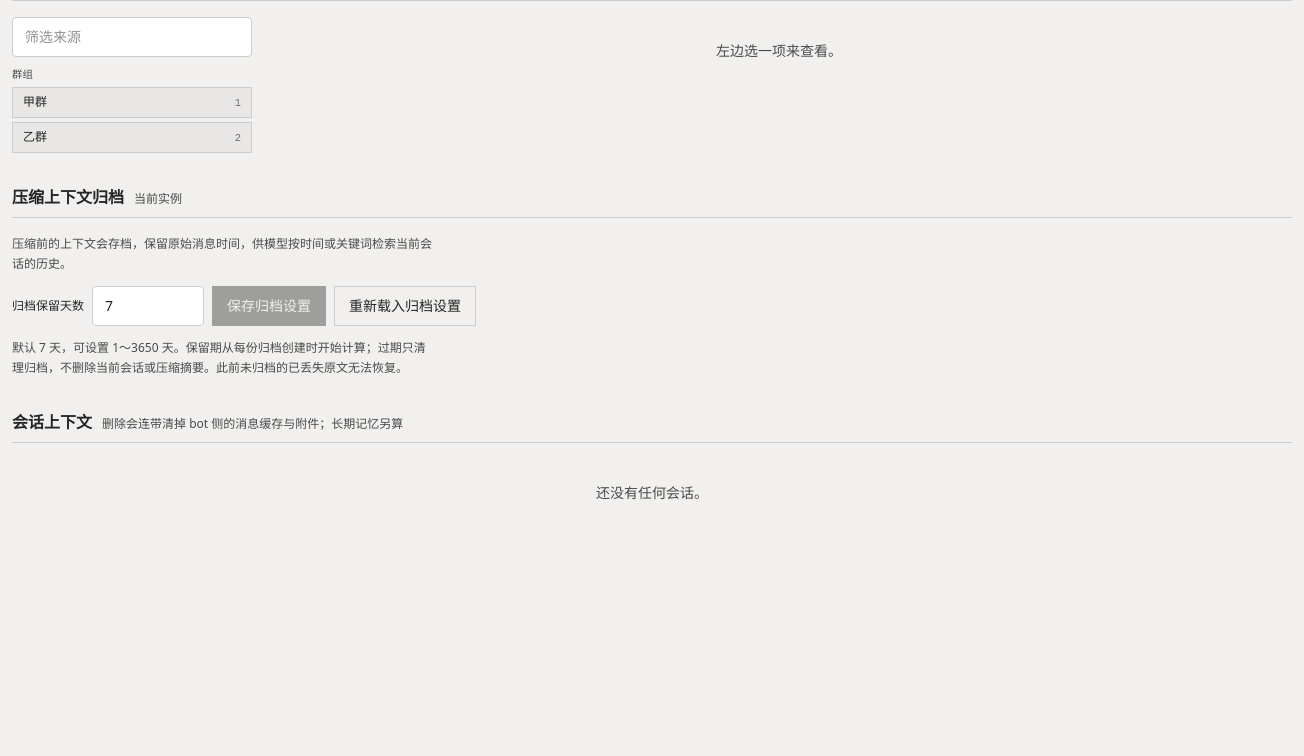
Scenario: 记忆条目 › 换一份看的时候退回第一页
The width and height of the screenshot is (1304, 756).
Step 1. Click the button "甲群 1" → (132, 103), box [12, 87, 252, 118]
(page scrolled)
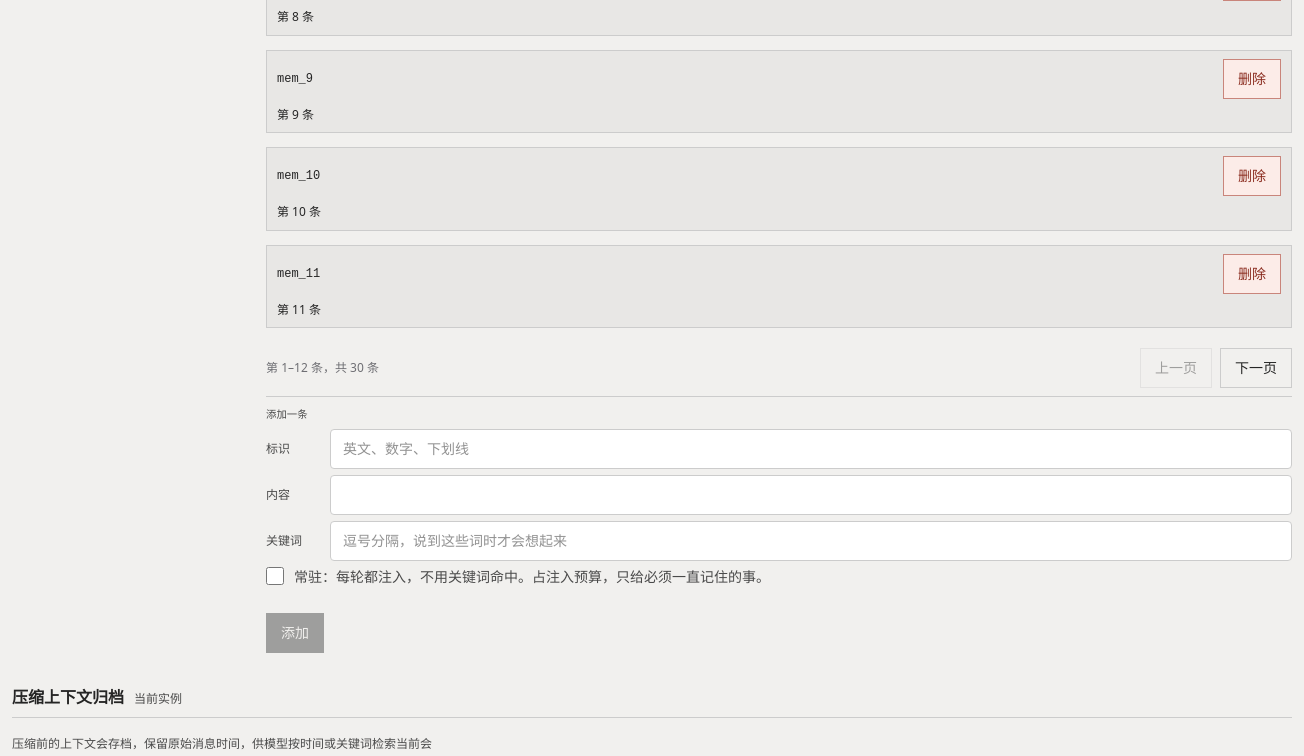
Step 2. Click the button "下一页" → (1256, 368), box [1220, 348, 1292, 388]
(page scrolled)
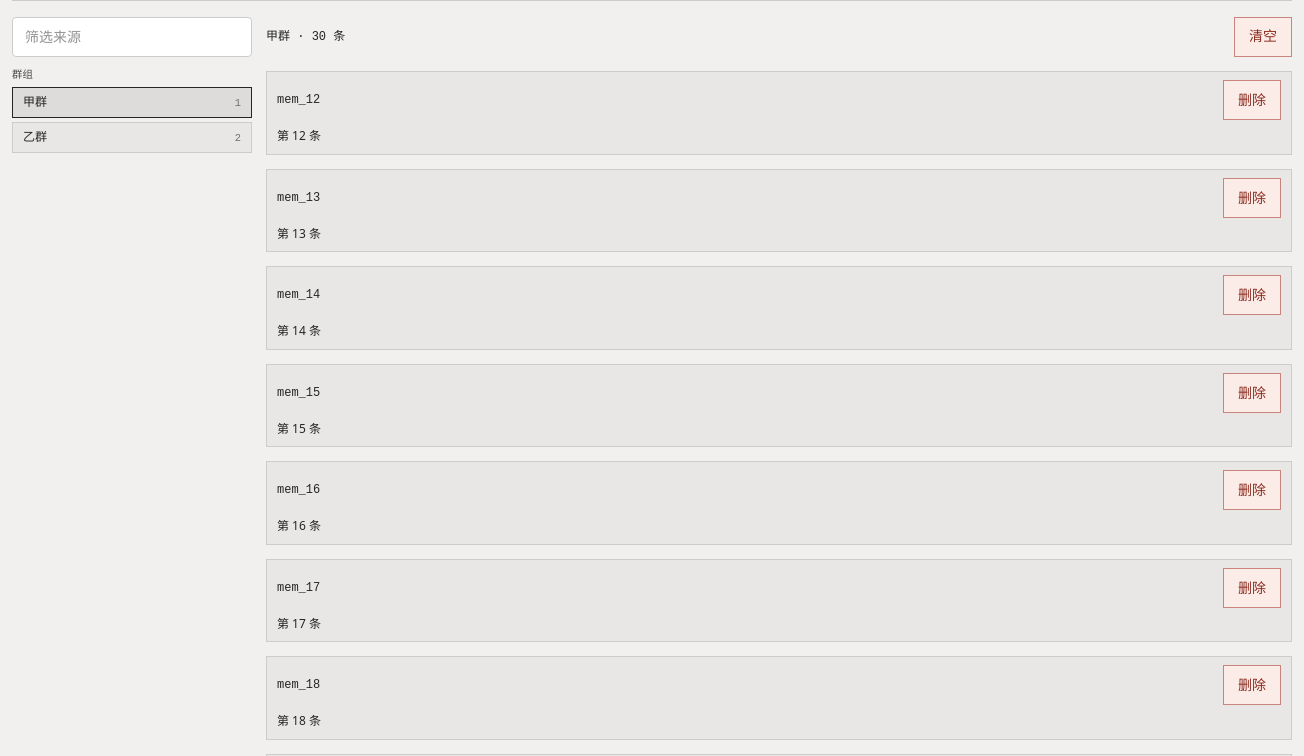
Expected: the text "第 12 条" is shown, [277, 127, 321, 144]
Step 3. Click the button "乙群 2" → (132, 137), box [12, 122, 252, 153]
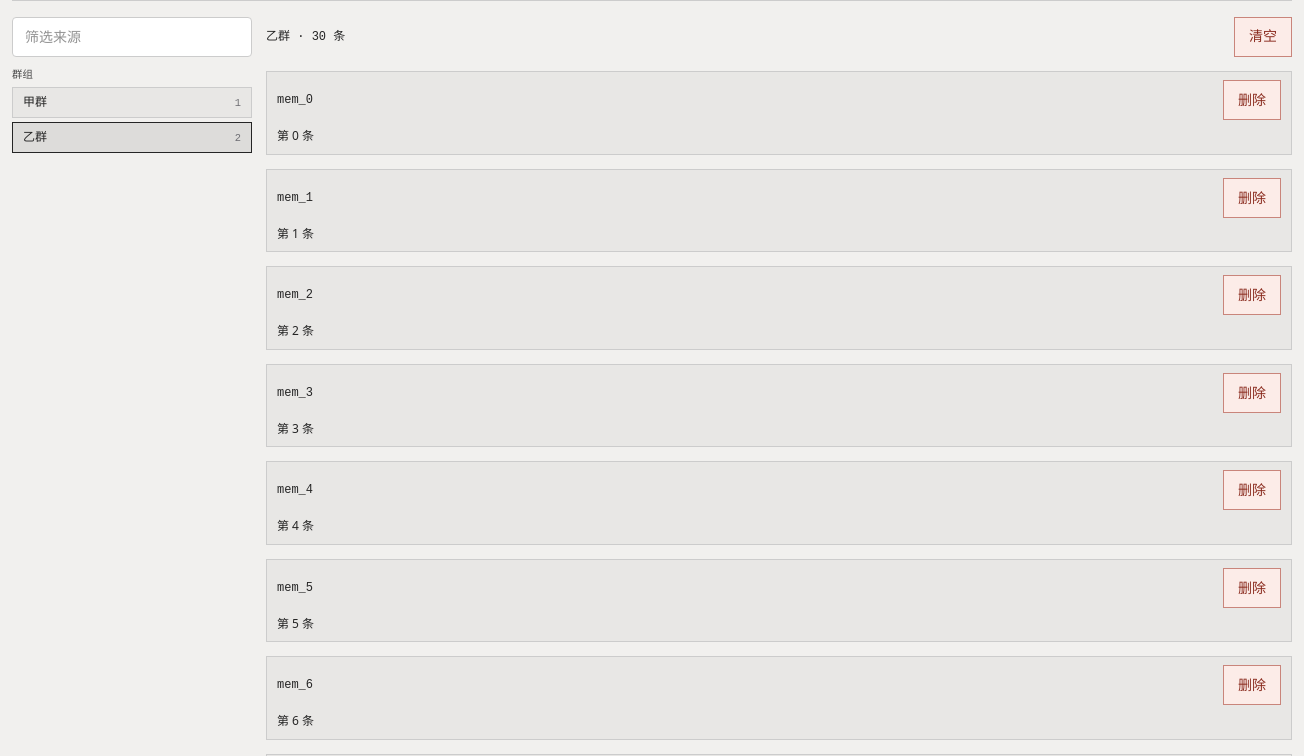
Expected: the text "第 0 条" is shown, [277, 127, 314, 144]
